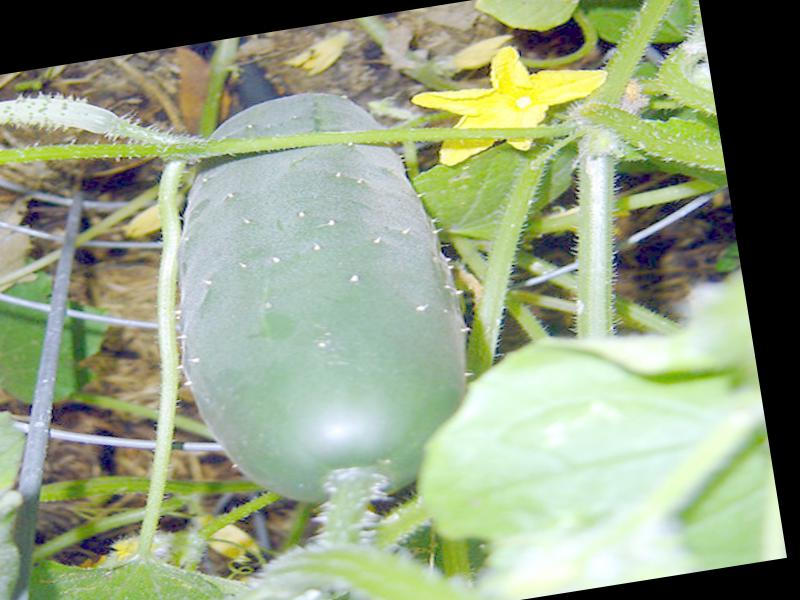Cucumber: (140, 76, 486, 523)
